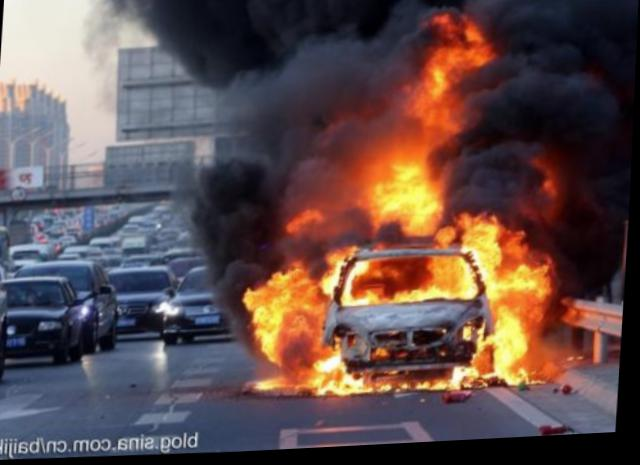fire: (246, 12, 588, 415)
